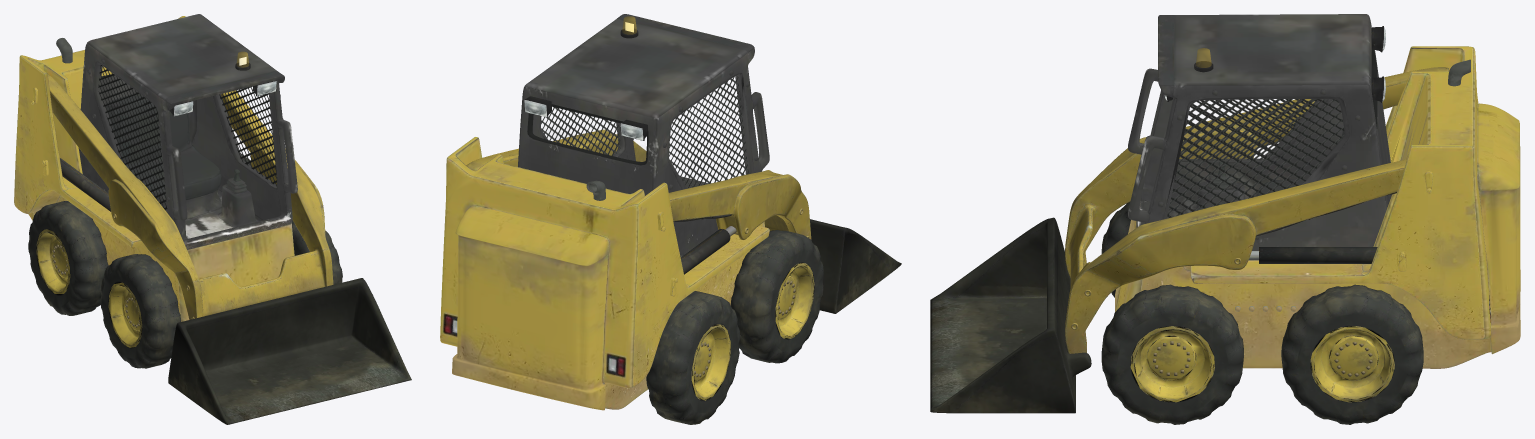
The model's file is loader.glb.
3 renders of one model, left to right at view 1: azimuth 30°, elevation 25°; view 2: azimuth 150°, elevation 25°; view 3: azimuth 270°, elevation 25°, orthographic. The views are drawn at different scales.
Parts seen in each view (by area): view 1: Body, Bucket, lift arms, wheel Ft R, wheel Bk R, Plane.002, Plane.001, wheel Ft L; view 2: Body, wheel Ft R, wheel Bk R, lift arms, Bucket, Plane.002, Plane.001; view 3: Body, lift arms, Bucket, wheel Bk L, wheel Ft L, Plane.001, Plane.002, wheel Ft R.
Boxes of the visible parts, box(x1,y1,x2,y2) form: Body: box(14, 14, 297, 321); Bucket: box(168, 278, 411, 424); lift arms: box(47, 74, 333, 319); wheel Ft R: box(100, 254, 180, 368); wheel Bk R: box(28, 201, 108, 315); Plane.002: box(98, 65, 167, 210); Plane.001: box(219, 86, 276, 186); wheel Ft L: box(292, 220, 342, 284); Body: box(440, 14, 769, 410); wheel Ft R: box(730, 230, 823, 363); wheel Bk R: box(646, 291, 739, 424); lift arms: box(466, 129, 811, 274); Bucket: box(810, 219, 901, 313); Plane.002: box(669, 75, 748, 188); Plane.001: box(541, 107, 620, 155); Body: box(1115, 14, 1520, 368); lift arms: box(1065, 67, 1449, 353); Bucket: box(930, 217, 1091, 413); wheel Bk L: box(1281, 284, 1423, 424); wheel Ft L: box(1101, 284, 1243, 424); Plane.001: box(1167, 99, 1344, 217); Plane.002: box(1179, 99, 1316, 160); wheel Ft R: box(1101, 202, 1130, 297).
Size of the model in its own units: 2.03 by 2.69 by 4.24.
8 materials, 6 textured.
